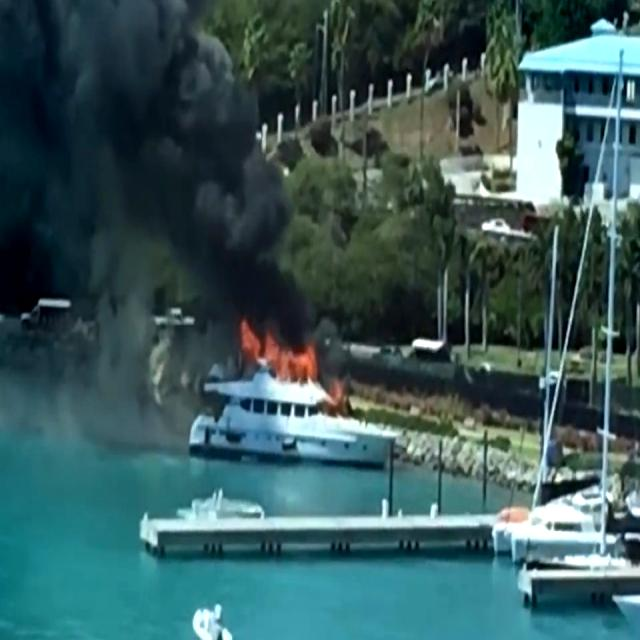smoke: (0, 0, 237, 263)
